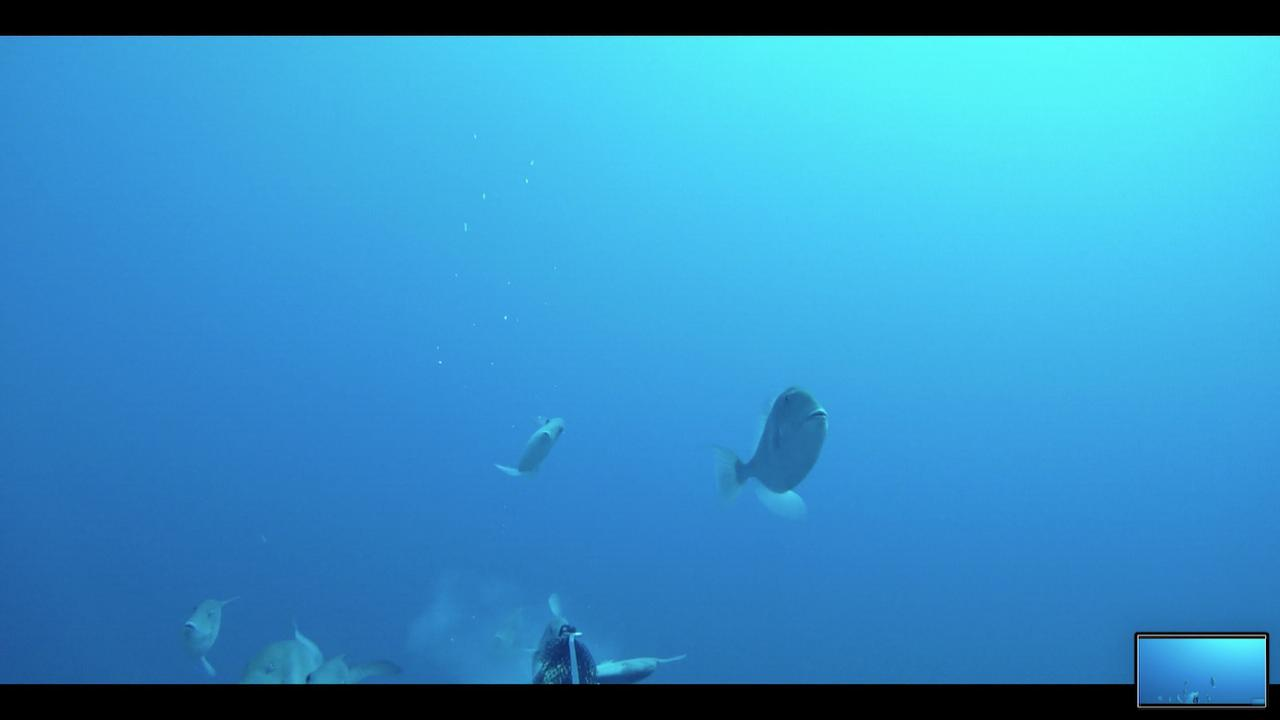balistes: (702, 374, 833, 530), (485, 406, 568, 482), (174, 588, 242, 680)
